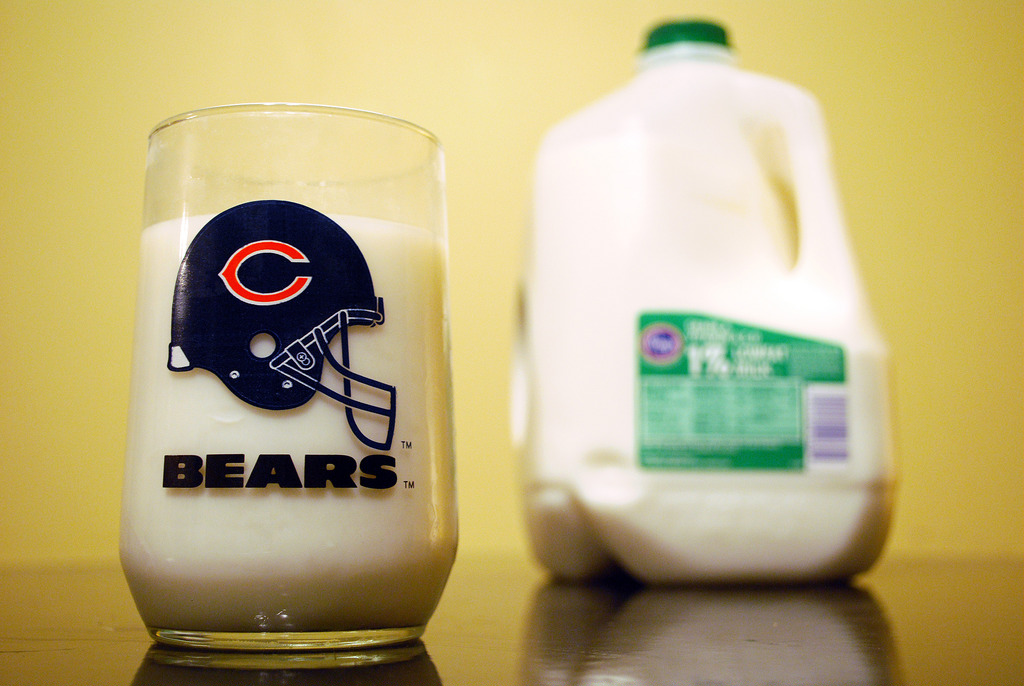glass of milk: (116, 121, 463, 648)
